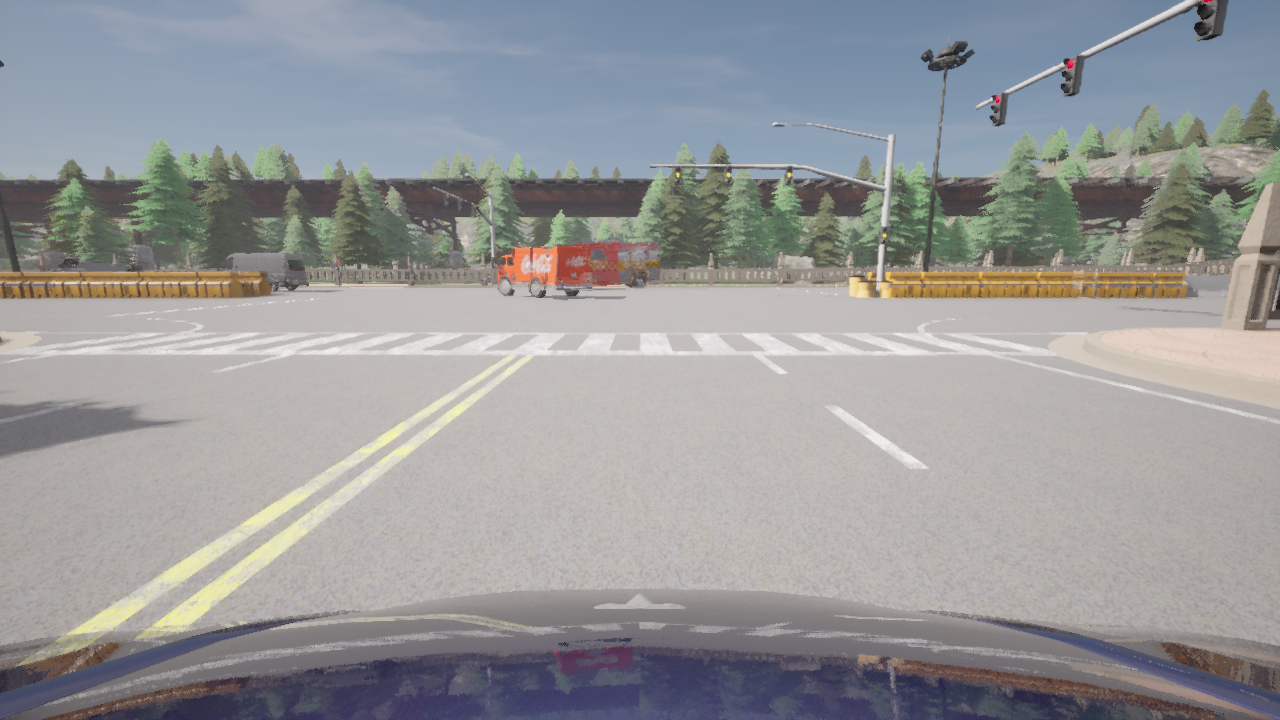cyclist: (0, 588, 1279, 719), (552, 236, 660, 288), (492, 247, 592, 298), (213, 252, 307, 291), (44, 256, 150, 271), (37, 269, 86, 271)
